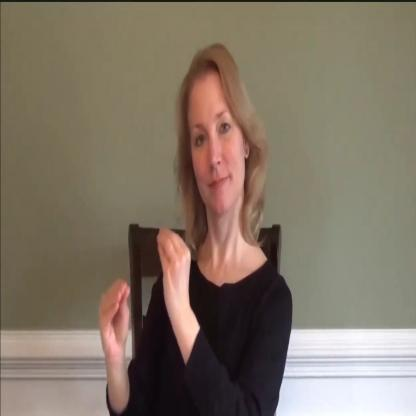Fix: (96, 223, 192, 353)
